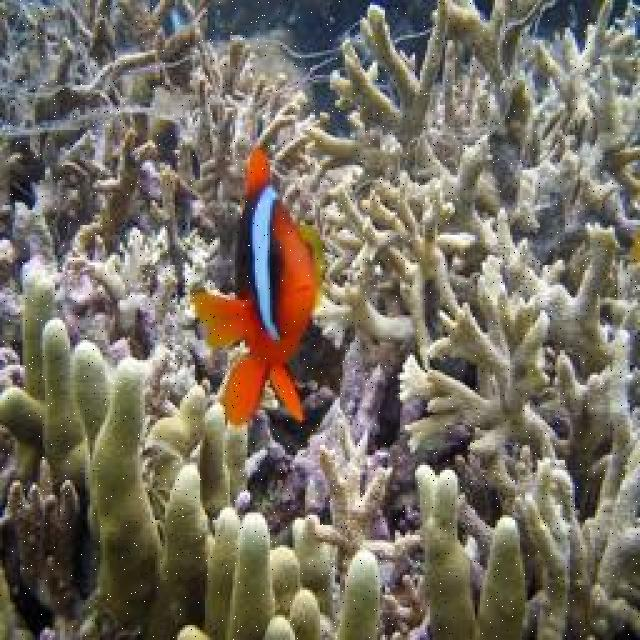fish: (193, 156, 329, 423)
